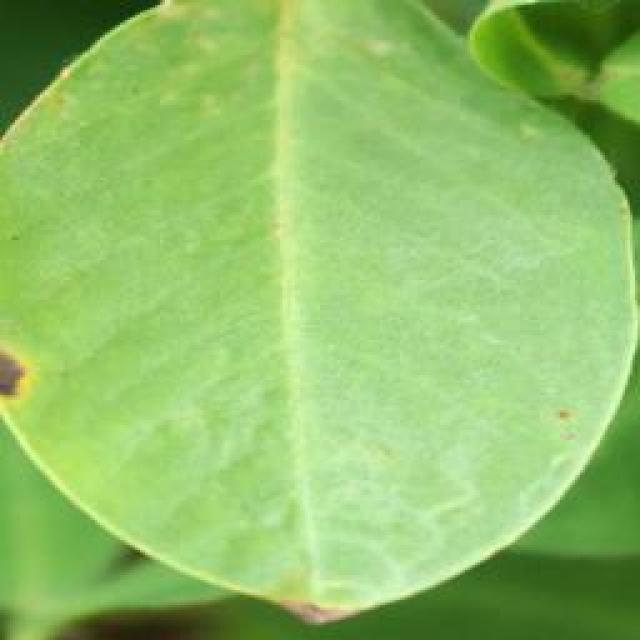Sigatoka: (0, 318, 88, 445), (268, 561, 382, 640), (526, 387, 609, 466)
